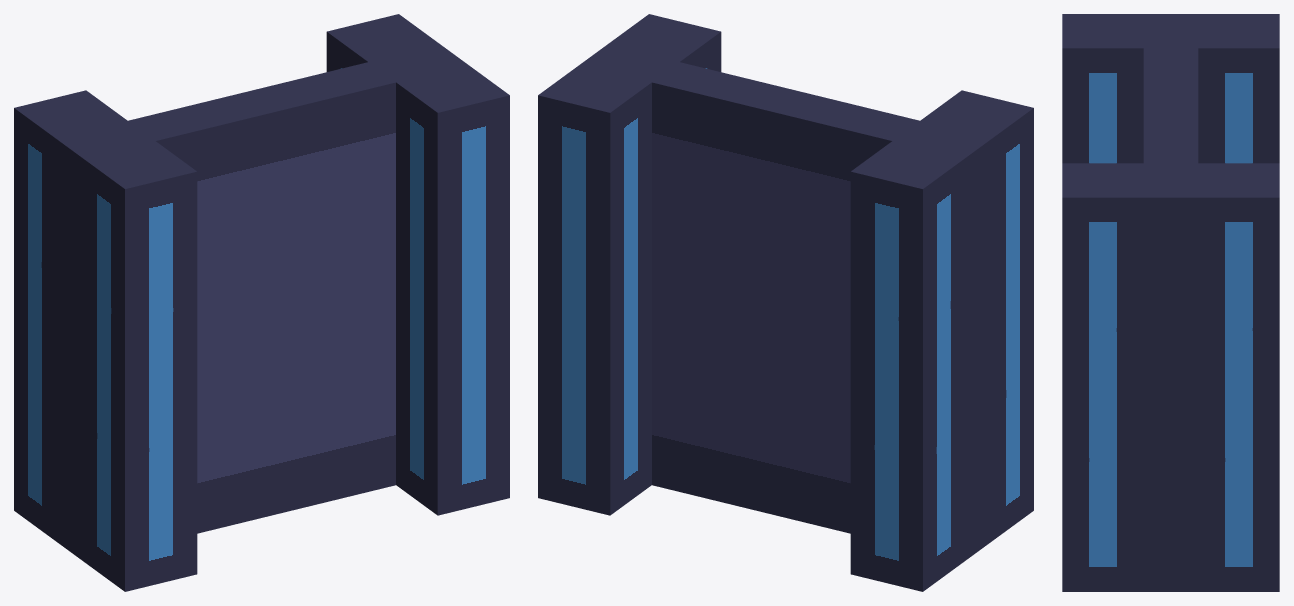
File: gate.gltf
3 views of the same model, side by side, from view 1: azimuth 30°, elevation 25°; view 2: azimuth 150°, elevation 25°; view 3: azimuth 270°, elevation 25° (orthographic). The views are drawn at different scales.
Parts seen in each view (by area): view 1: wall (×4), door; view 2: wall (×4), door; view 3: wall (×4), door.
Part boxes in pixels (x1,y1,x2,y2): wall (×4): (14,14,509,591); door: (55,44,467,560); wall (×4): (538,14,1033,591); door: (580,44,992,560); wall (×4): (1062,14,1279,591); door: (1143,14,1198,591).
Size of the model in its own units: 0.5 by 0.5 by 0.25.
1 material, 1 textured.
